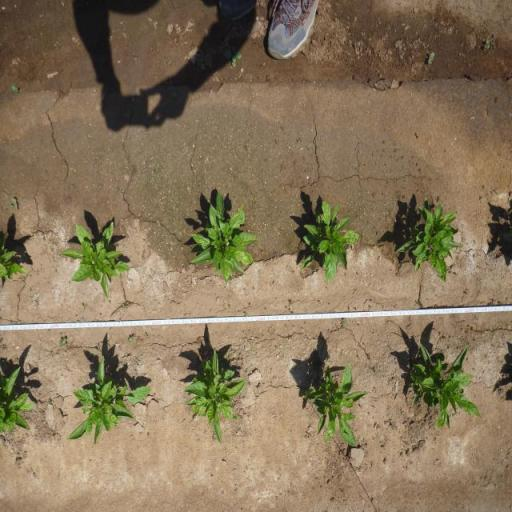plant: (66, 354, 152, 446), (188, 188, 260, 286), (393, 194, 466, 285), (409, 342, 482, 432), (184, 348, 248, 446), (59, 220, 131, 302), (297, 198, 364, 286), (309, 361, 369, 449), (0, 365, 34, 435), (0, 230, 29, 283)
weed: (230, 50, 244, 68), (484, 32, 496, 48), (8, 196, 19, 210), (10, 84, 22, 94), (69, 162, 77, 176), (426, 51, 434, 65), (340, 318, 348, 330), (120, 303, 130, 312), (58, 338, 68, 347), (94, 343, 102, 354), (302, 430, 313, 438), (486, 298, 496, 306), (118, 186, 124, 197), (127, 335, 134, 344), (80, 302, 86, 312), (242, 310, 248, 318), (166, 58, 174, 64), (0, 343, 6, 350), (47, 398, 52, 406), (297, 136, 302, 144), (288, 298, 293, 305)
